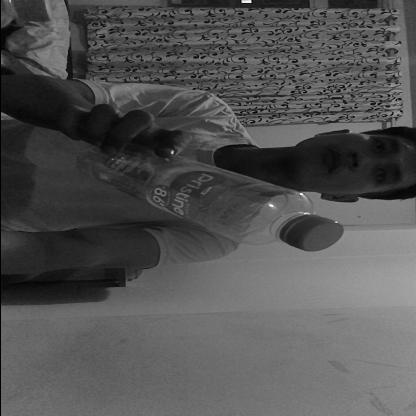plastic_bottles: (76, 141, 344, 252)
